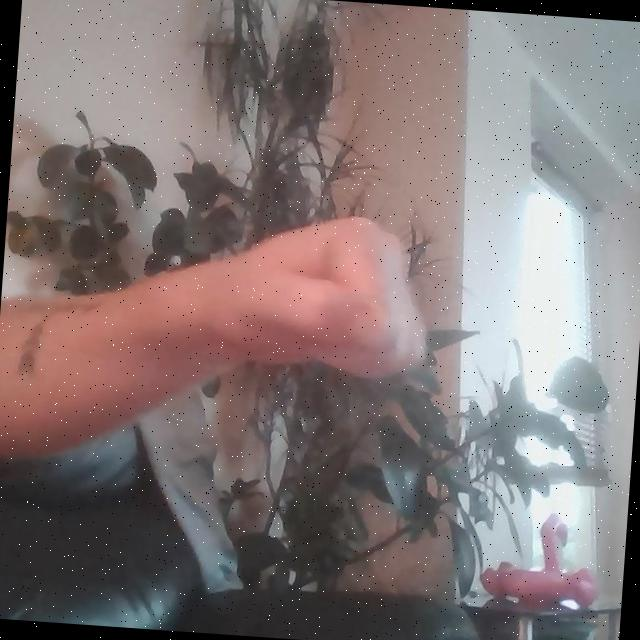rock: (183, 201, 445, 399)
